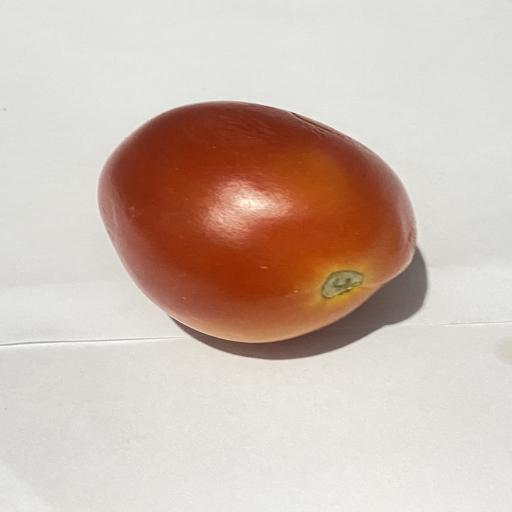ripe: (98, 101, 416, 343)
